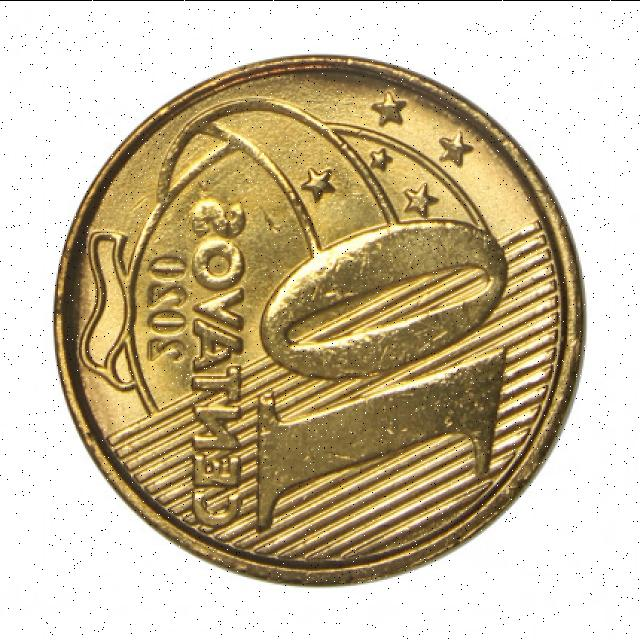10 cent: (56, 52, 588, 584)
